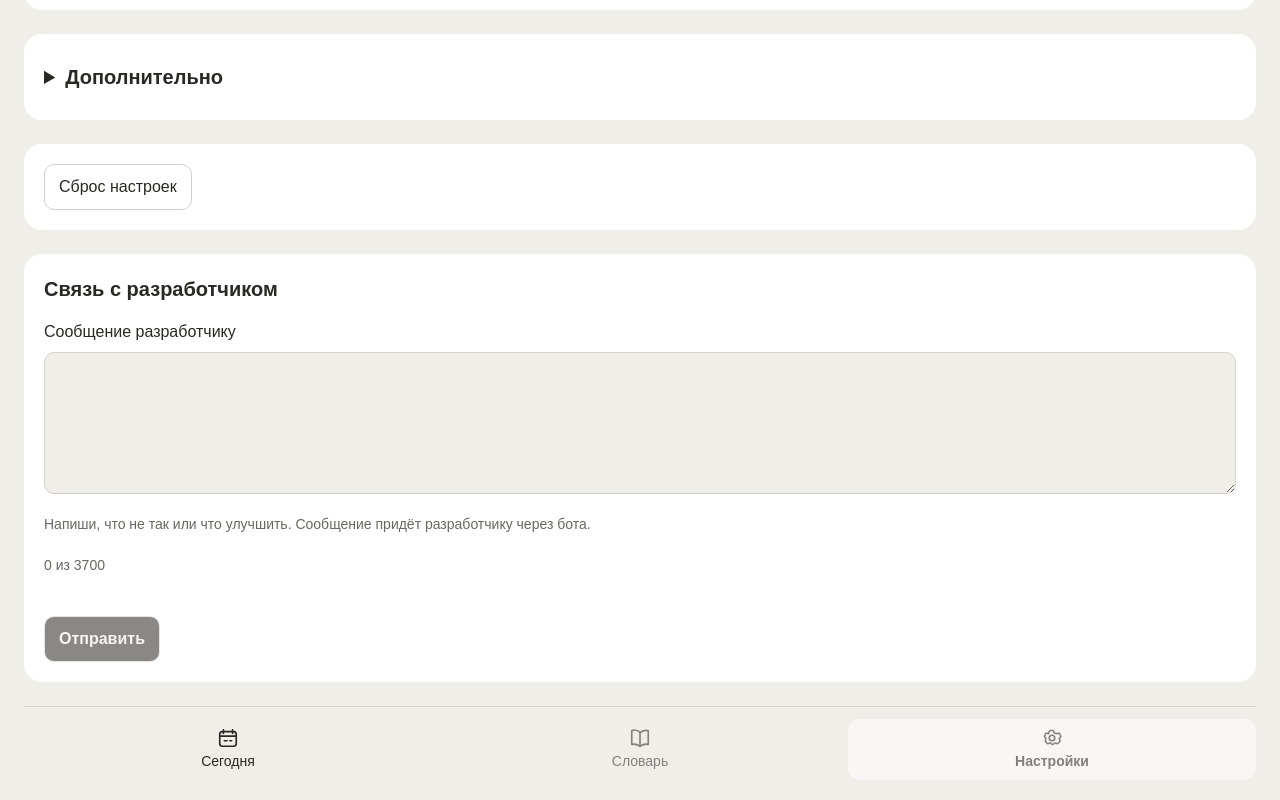
Test: the message to the developer in settings › HTTP 403 shows only the access problem, not the send-again refusal
The image size is (1280, 800).
(page scrolled)
Type "Das Wort ist falsch geschrieben" into the text box labelled "Сообщение разработчику" at x=640, y=423, box [44, 352, 1236, 494]
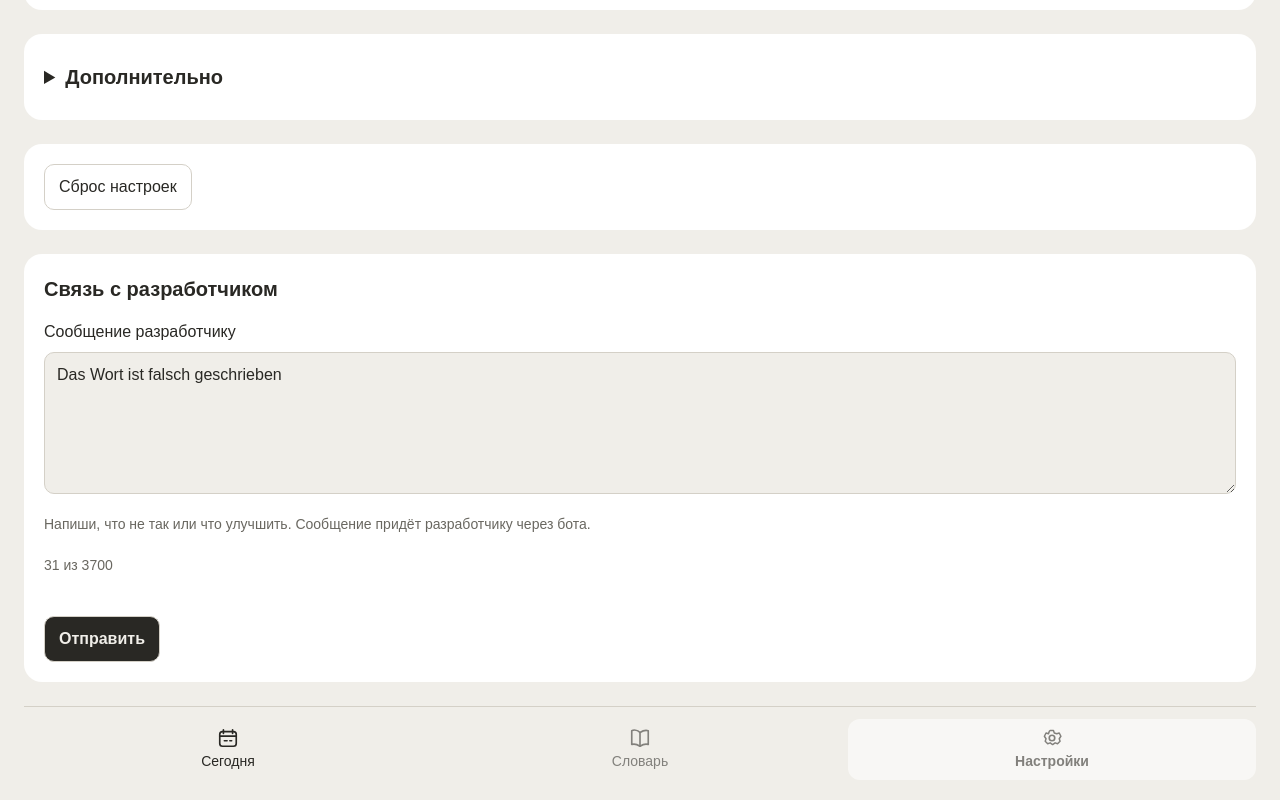
Click the button "Отправить" at x=102, y=639, box [44, 616, 160, 662]
(page scrolled)
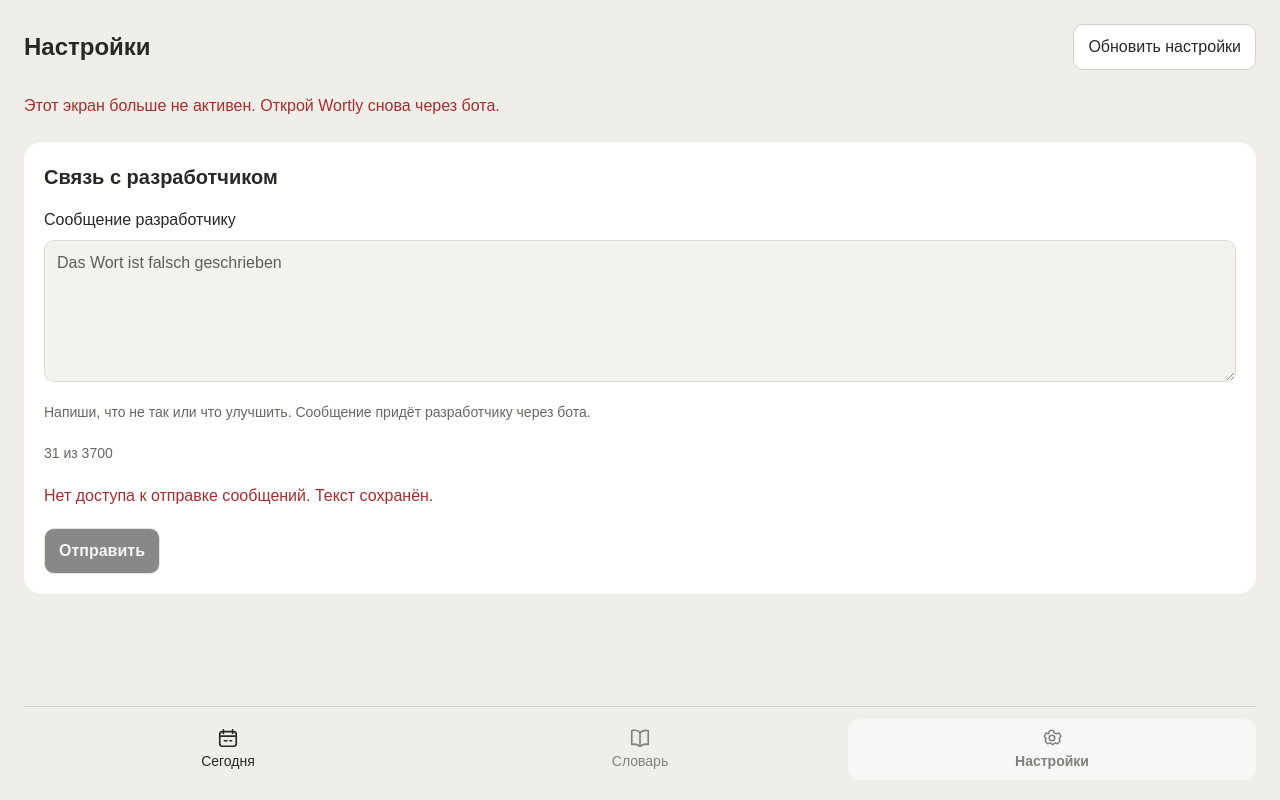
Expected: the text "Нет доступа к отправке сообщений. Текст сохранён." is shown, [44, 487, 433, 504]
